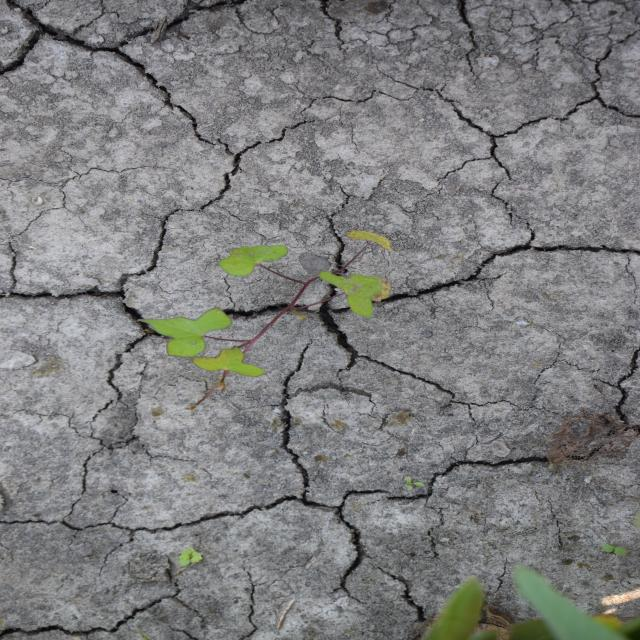MorningGlory: (133, 228, 396, 412)
